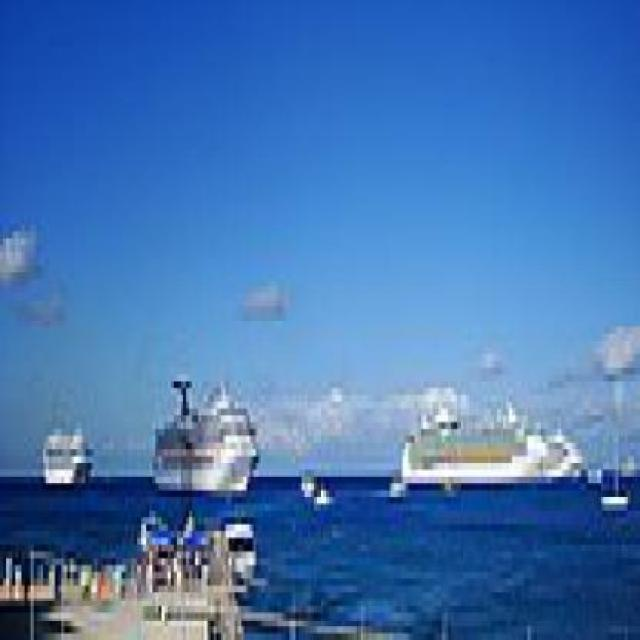cruise: (141, 362, 275, 519)
